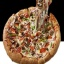pizza: (5, 9, 58, 62)
